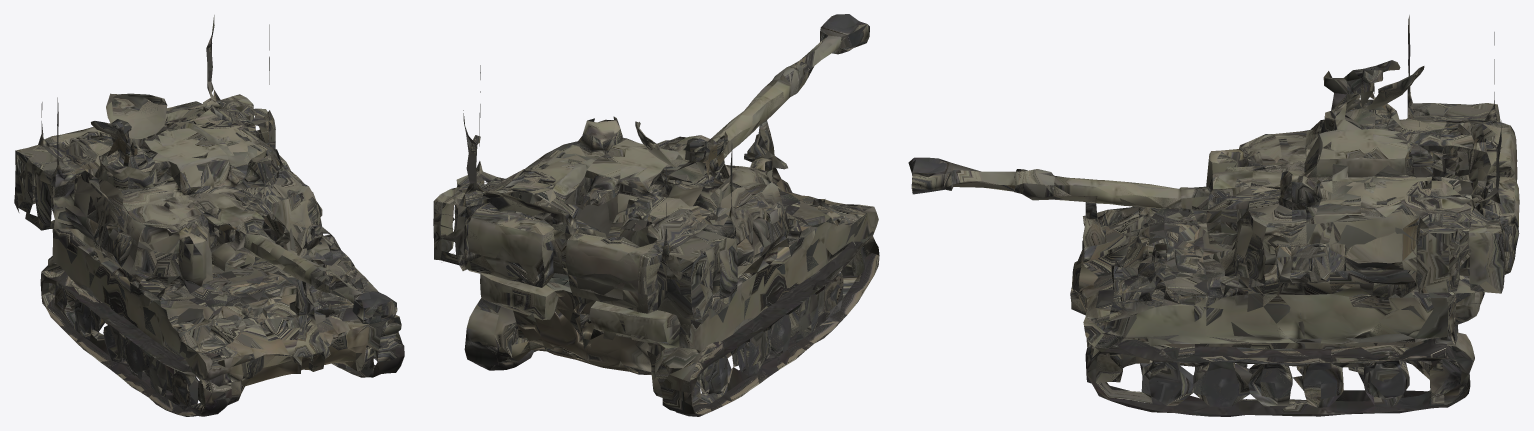
The model's file is m109-doher-lod.glb.
The picture shows the model from 3 angles, left to right: view 1: azimuth 30°, elevation 25°; view 2: azimuth 150°, elevation 25°; view 3: azimuth 270°, elevation 25°; orthographic projection. The views are drawn at different scales.
Visible parts, largest first — view 1: world; view 2: world; view 3: world.
Boxes of the visible parts, bbox=[...] form: world: bbox=[14, 15, 404, 416]; world: bbox=[433, 14, 879, 416]; world: bbox=[908, 15, 1519, 416].
Bounding box in the file's own units: 0.5128 × 0.5556 × 0.9949.
1 material, 1 textured.
